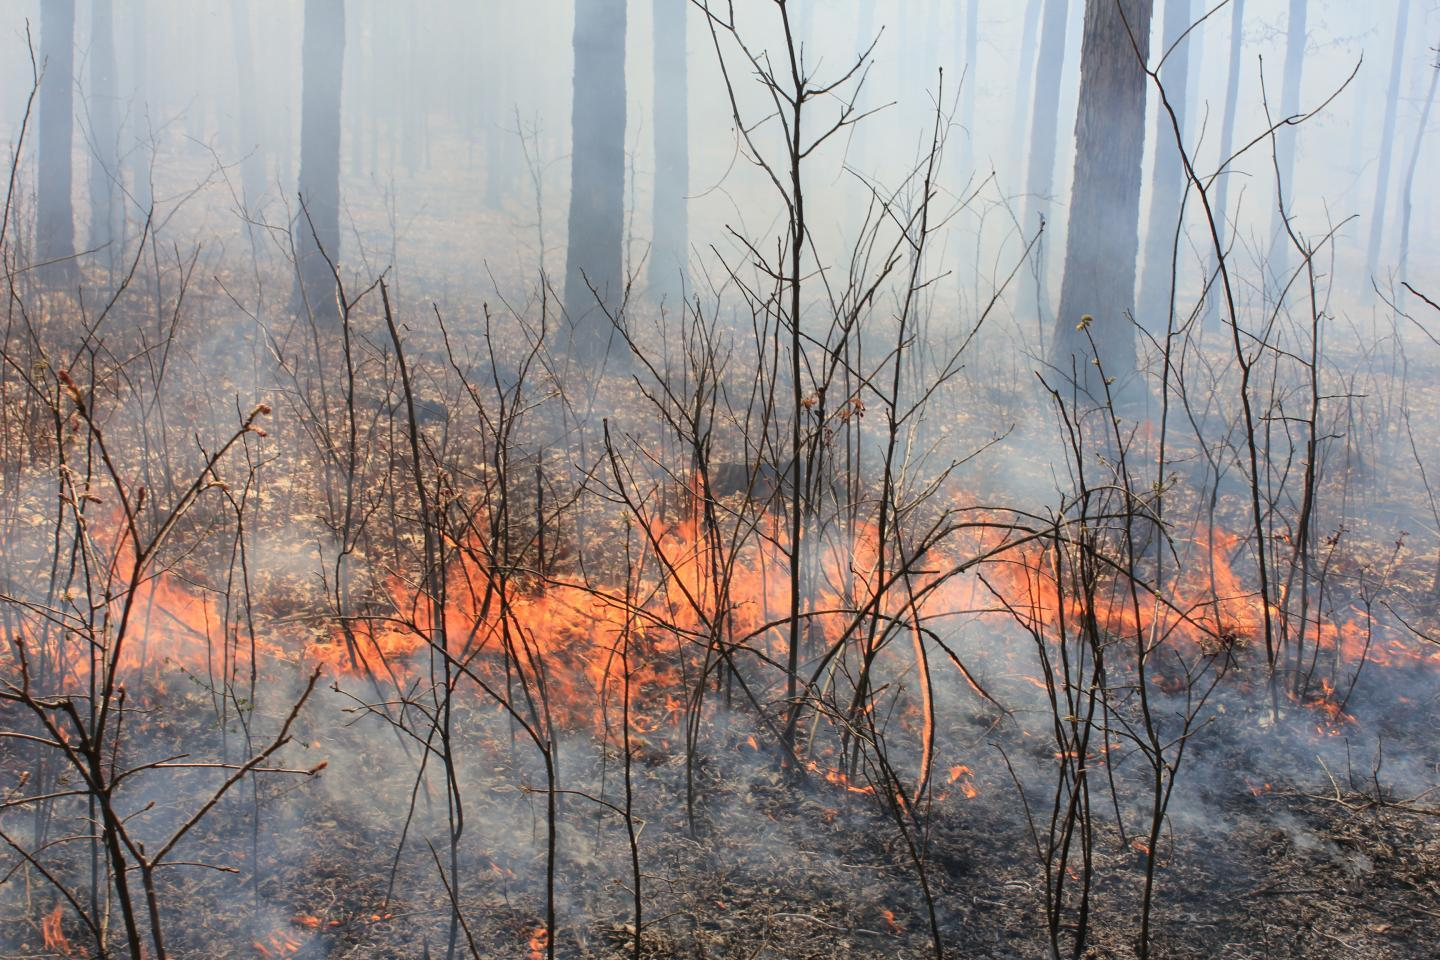fire: (3, 512, 1339, 717)
